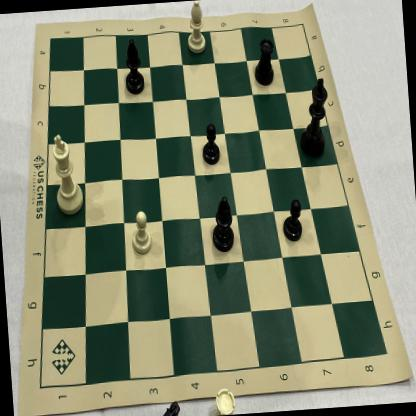bishop: (206, 191, 240, 257), (121, 35, 150, 100), (184, 0, 215, 59)
king: (48, 122, 90, 222), (294, 72, 334, 166)
pawn: (128, 204, 158, 257), (277, 194, 305, 246), (198, 118, 226, 168)
rook: (250, 34, 281, 88)
